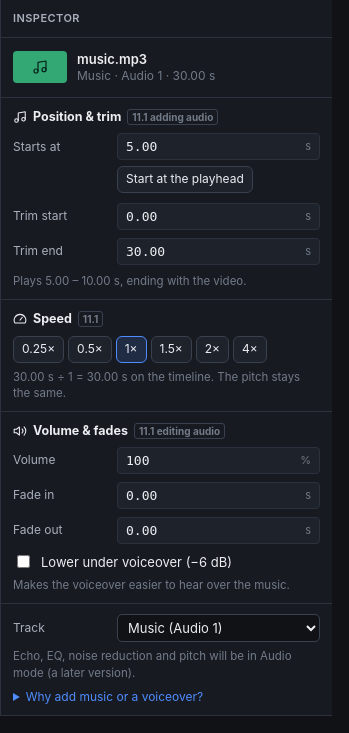
Test: V13 split, join and speed of a sound (like a video clip) › speed buttons change the sound speed and its length on the timeline
What coordinates should you click on to do the following:
click the button "2×"
I would click on:
 (212, 349)
Its box is [196, 336, 229, 363].
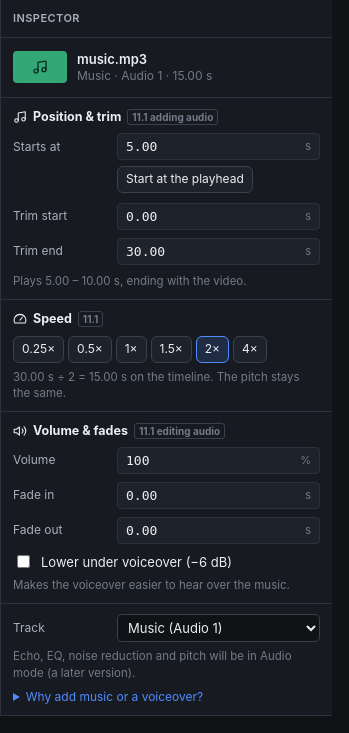
Check: the text "30.00 s ÷ 2 = 15.00 s on the timeline" is shown, box [13, 370, 300, 400]
